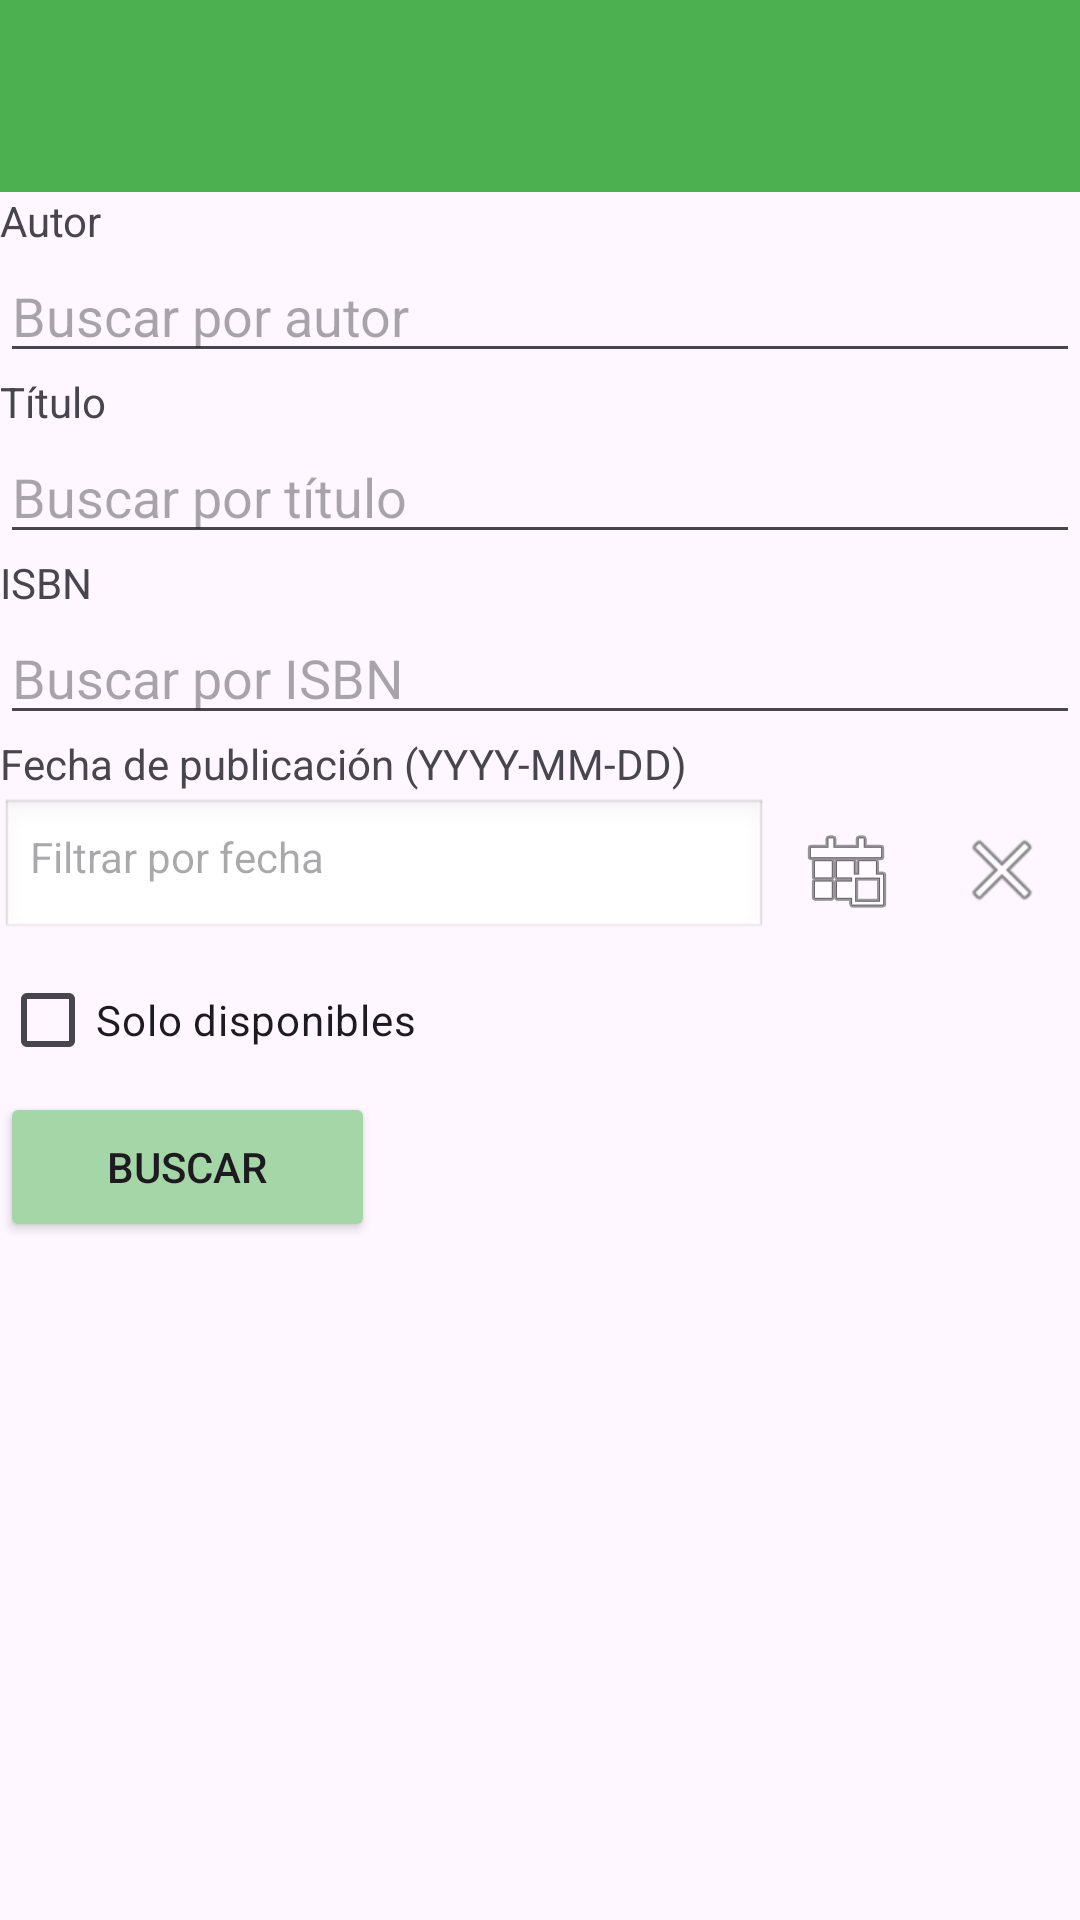

Point at icon controls on the screen. Image size 1080x1920, points as point (x, y).
Restablecer fecha: point (1002, 870)
Seleccionar fecha: point (847, 871)
